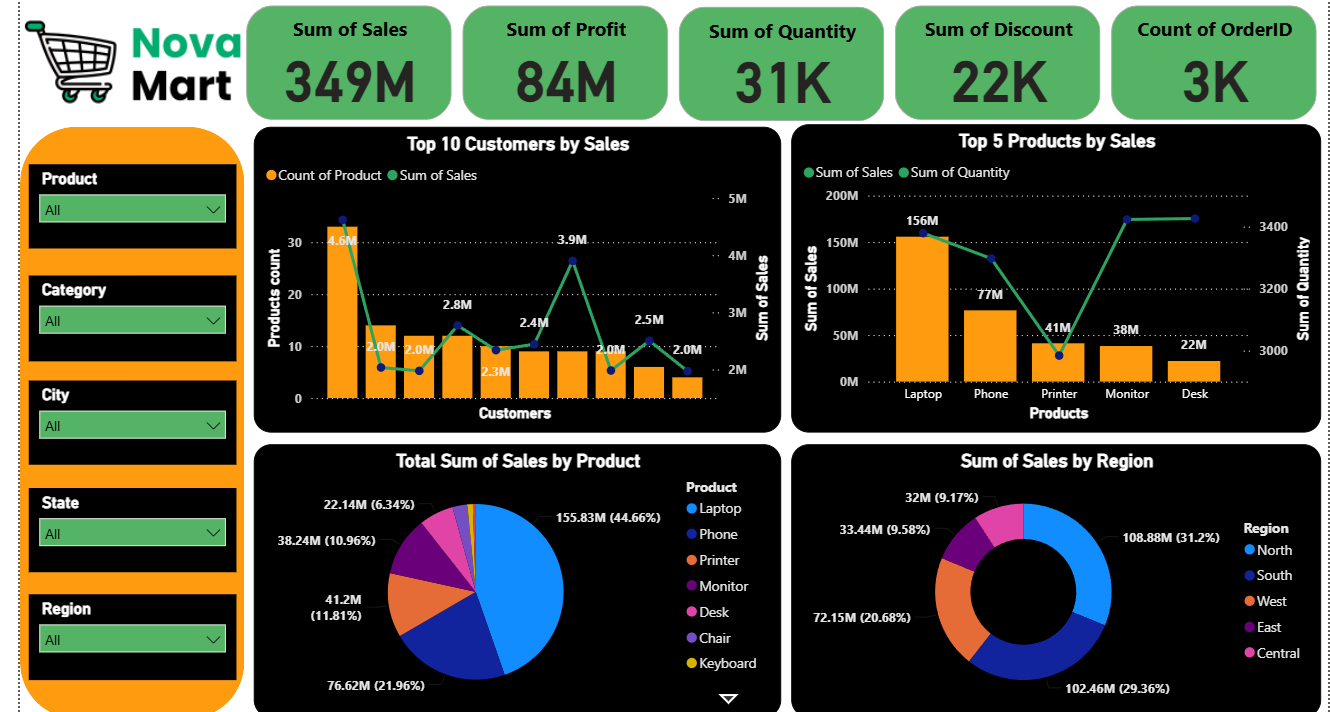

The page's visual inventory and layout, read from the dashboard file:
{"tool":"powerbi","page":{"name":"Sales Dashboard","canvas":[1280,720],"ordinal":0},"visuals":[{"type":"image","box":[0,15.1,229.2,105.7],"z":0},{"type":"cardVisual","fields":{"Data":["Sum(Sales_Data.Sales)"]},"box":[216.8,6.9,211.3,122.1],"z":1000},{"type":"cardVisual","fields":{"Data":["Sum(Sales_Data.Profit)"]},"box":[428.1,6.9,211.3,122.1],"z":2000},{"type":"cardVisual","fields":{"Data":["Sum(Sales_Data.Quantity)"]},"box":[639.5,8.2,211.3,122.1],"z":3000},{"type":"cardVisual","fields":{"Data":["CountNonNull(Sales_Data.OrderID)"]},"box":[1062.1,6.9,211.3,122.1],"z":4000},{"type":"cardVisual","fields":{"Data":["Sum(Sales_Data.Discount)"]},"box":[850.8,6.9,211.3,122.1],"z":5000},{"type":"shape","box":[0,130.4,219.6,579.1],"z":6000},{"type":"slicer","fields":{"Values":["Sales_Data.Product"]},"box":[8.2,167.4,203.1,82.3],"z":7000},{"type":"slicer","fields":{"Values":["Sales_Data.Category"]},"box":[8.2,275.8,203.1,83.7],"z":8000},{"type":"slicer","fields":{"Values":["Sales_Data.City"]},"box":[8.2,378.7,203.1,82.3],"z":9000},{"type":"slicer","fields":{"Values":["Sales_Data.State"]},"box":[8.2,484.4,203.1,82.3],"z":10000},{"type":"slicer","fields":{"Values":["Sales_Data.Region"]},"box":[8.2,588.7,203.1,83.7],"z":11000},{"type":"lineStackedColumnComboChart","title":"Top 10 Customers by Sales","fields":{"Category":["Sales_Data.CustomerName"],"Y":["CountNonNull(Sales_Data.Product)"],"Y2":["Sum(Sales_Data.Sales)"]},"box":[228.7,130.8,516,299.6],"z":12000},{"type":"lineStackedColumnComboChart","title":"Top 5 Products by Sales","fields":{"Category":["Sales_Data.Product"],"Y":["Sum(Sales_Data.Sales)"],"Y2":["Sum(Sales_Data.Quantity)"]},"box":[754.7,129,518.7,301.9],"z":13000},{"type":"pieChart","title":"Total Sum of Sales by Product","fields":{"Category":["Sales_Data.Product"],"Y":["Sum(Sales_Data.Sales)"]},"box":[229.2,441.9,516,267.6],"z":14000},{"type":"donutChart","fields":{"Category":["Sales_Data.Region"],"Y":["Sum(Sales_Data.Sales)"]},"box":[754.7,441.9,518.7,267.6],"z":15000}]}

Visuals, with their boxes in screenshot pixels (x1, y1, x2, y2):
image: 24,8,256,115
cardVisual - Sum(Sales_Data.Sales): 244,0,458,124
cardVisual - Sum(Sales_Data.Profit): 458,0,672,124
cardVisual - Sum(Sales_Data.Quantity): 672,1,886,125
cardVisual - CountNonNull(Sales_Data.OrderID): 1100,0,1314,124
cardVisual - Sum(Sales_Data.Discount): 886,0,1100,124
shape: 24,125,247,711
slicer - Sales_Data.Product: 33,163,238,246
slicer - Sales_Data.Category: 33,273,238,357
slicer - Sales_Data.City: 33,377,238,460
slicer - Sales_Data.State: 33,484,238,567
slicer - Sales_Data.Region: 33,590,238,674
"Top 10 Customers by Sales" lineStackedColumnComboChart: 256,126,779,429
"Top 5 Products by Sales" lineStackedColumnComboChart: 789,124,1314,430
"Total Sum of Sales by Product" pieChart: 256,441,779,711
donutChart - Sales_Data.Region x Sum(Sales_Data.Sales): 789,441,1314,711
